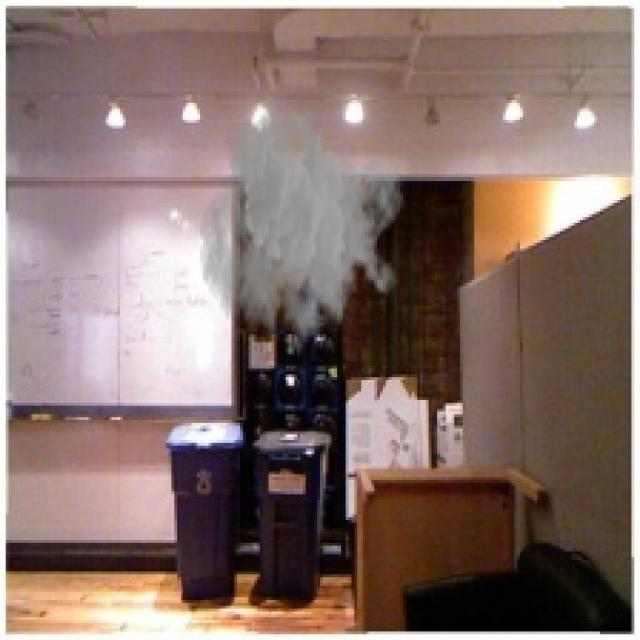Smoke: (197, 94, 406, 366)
